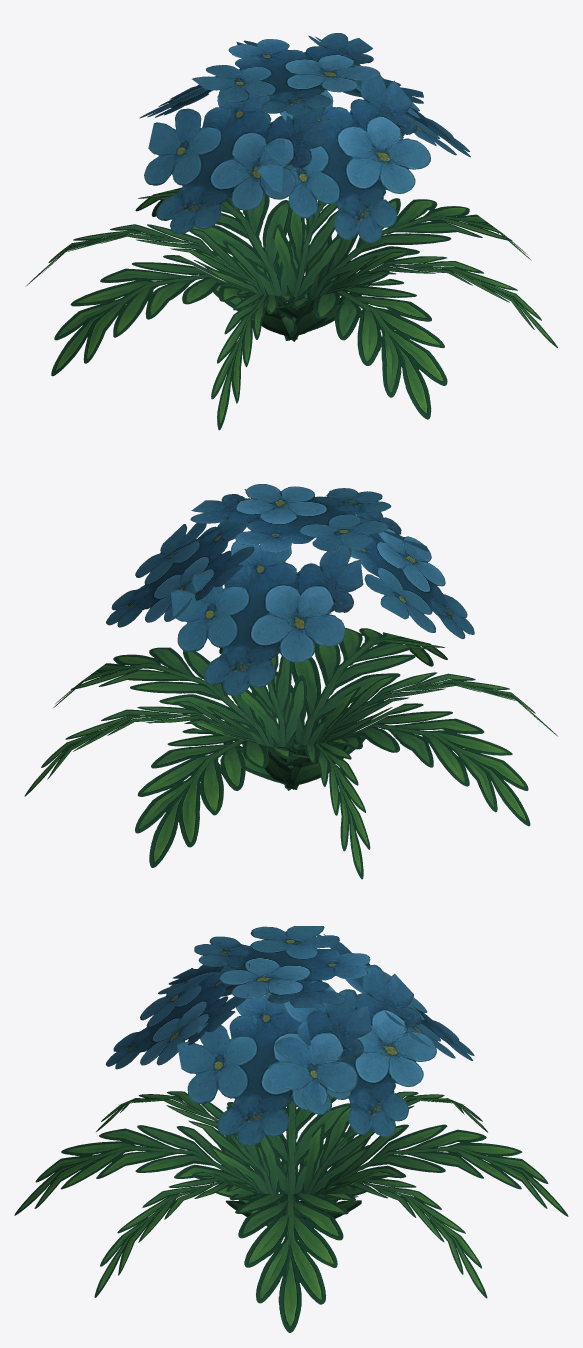
Rendered from plant03_(BlueFlower).fbx.
3 renders of one model, top to bottom at view 1: azimuth 30°, elevation 25°; view 2: azimuth 150°, elevation 25°; view 3: azimuth 270°, elevation 25°, orthographic.
Visible parts, largest first — view 1: Object006; view 2: Object006; view 3: Object006.
Boxes of the visible parts, x1,y1,x2,y2 form: Object006: [25, 33, 557, 430]; Object006: [24, 484, 557, 879]; Object006: [14, 926, 568, 1332].
Size of the model in its own units: 42.01 by 24.76 by 42.01.
1 material, 1 textured.
